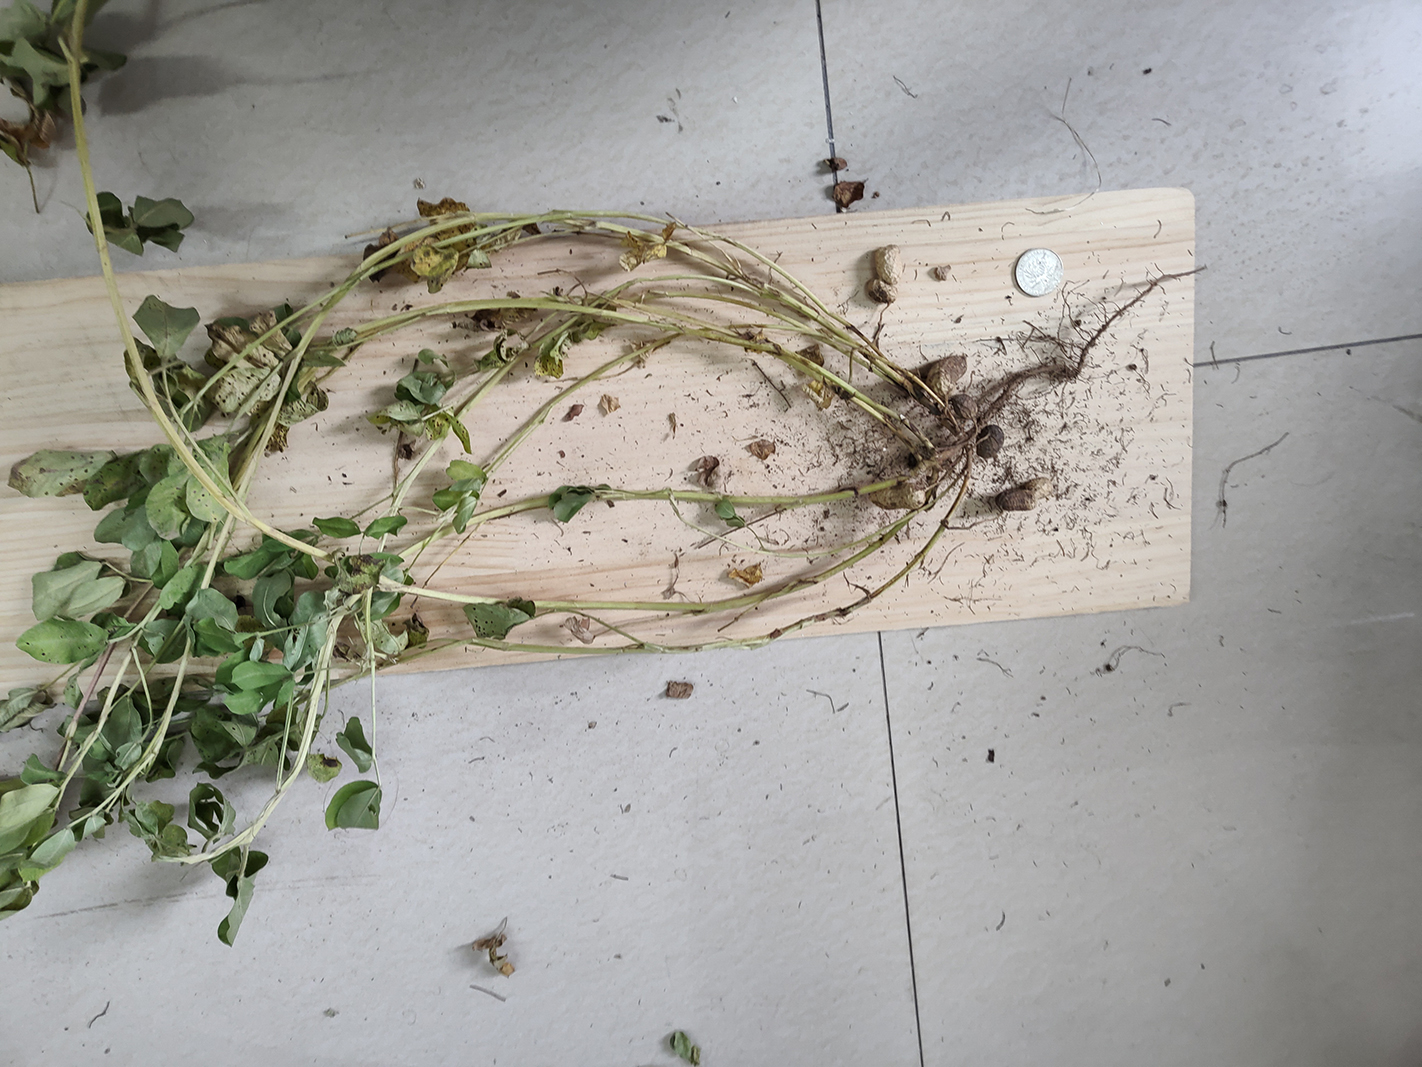h: (868, 244, 902, 306), (873, 486, 926, 510)
l: (998, 477, 1053, 510), (929, 356, 967, 395), (975, 425, 1004, 460), (954, 395, 978, 420)
